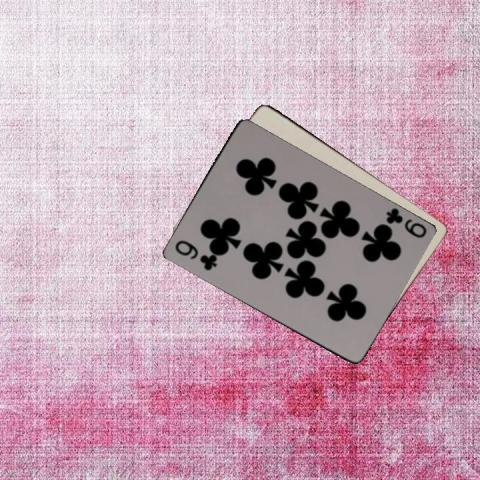9c: (171, 237, 218, 273), (382, 205, 428, 240)
